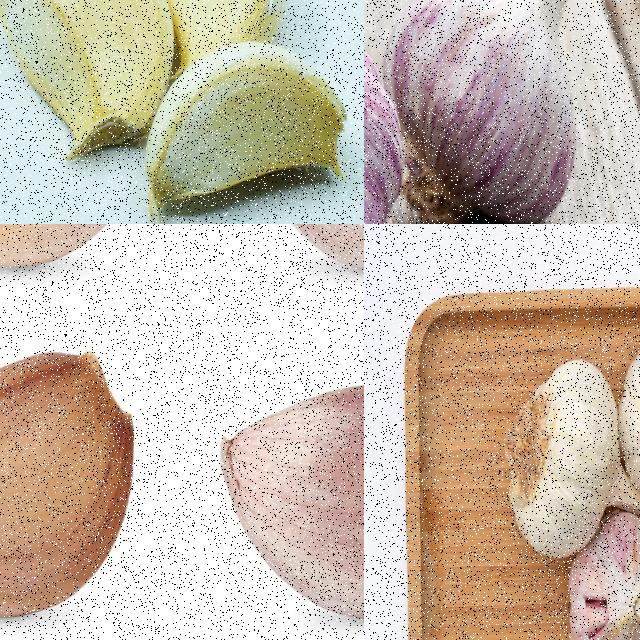garlic: (372, 0, 612, 223), (199, 374, 363, 619), (0, 345, 141, 619), (131, 34, 353, 207), (0, 0, 175, 171), (502, 357, 620, 562), (104, 0, 280, 97), (566, 512, 639, 639)
